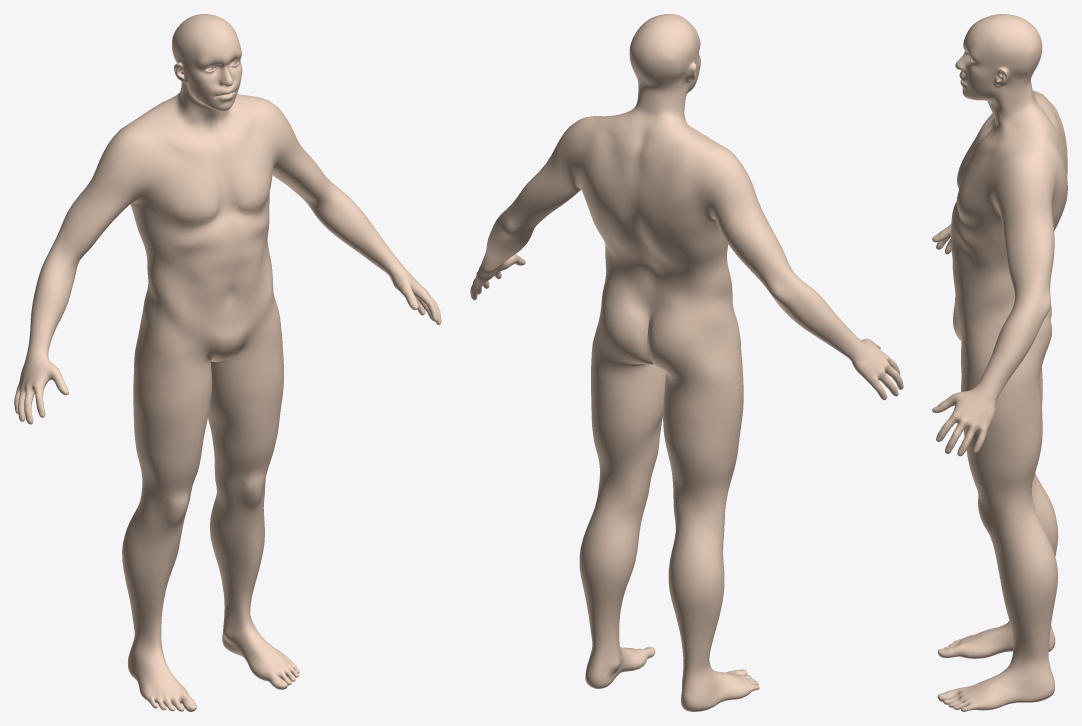
Rendered from skin.glb.
3 renders of one model, left to right at view 1: azimuth 30°, elevation 25°; view 2: azimuth 150°, elevation 25°; view 3: azimuth 270°, elevation 25°, orthographic.
Parts seen in each view (by area): view 1: Skin; view 2: Skin; view 3: Skin.
Part boxes in pixels (bbox=[...]): Skin: bbox=[14, 14, 441, 711]; Skin: bbox=[470, 14, 903, 711]; Skin: bbox=[932, 14, 1067, 711].
Size of the model in its own units: 1.12 by 1.7 by 0.3158.
